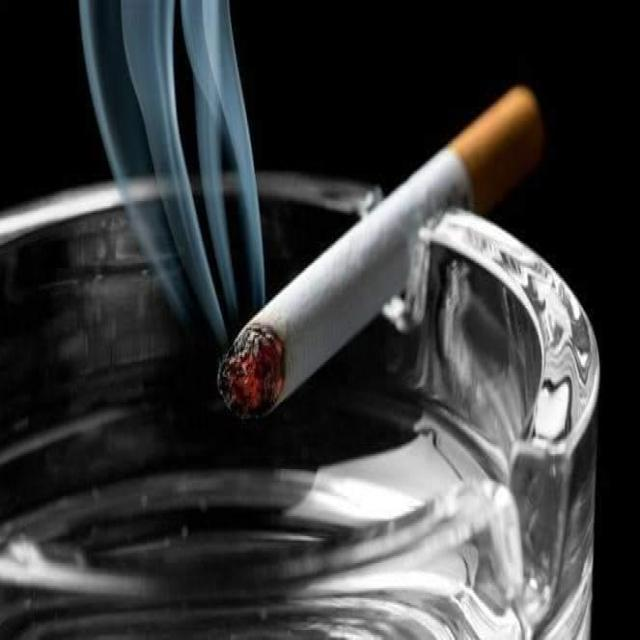Cigarette: (209, 83, 544, 424)
